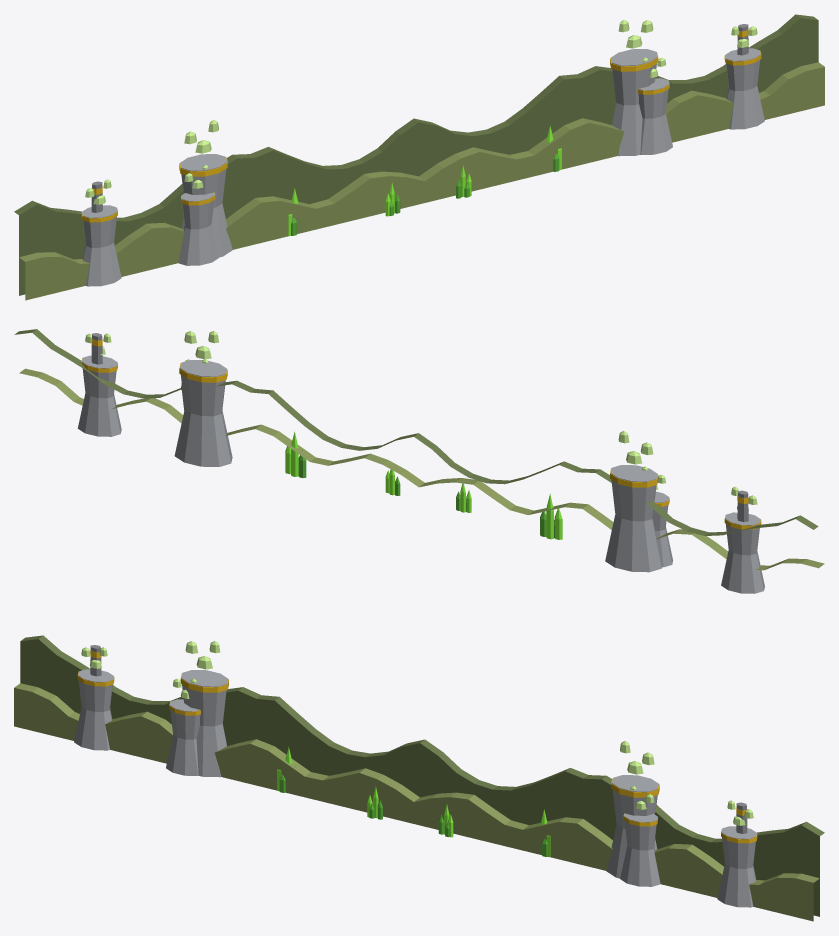
Rendered from backdrop_toxic.glb.
The picture shows the model from 3 angles, top to bottom: view 1: azimuth 30°, elevation 25°; view 2: azimuth 150°, elevation 25°; view 3: azimuth 330°, elevation 25°; orthographic projection.
Visible parts, largest first — view 1: backdrop_toxic; view 2: backdrop_toxic; view 3: backdrop_toxic.
Part boxes in pixels (x1,y1,x2,y2): backdrop_toxic: [14, 14, 824, 300]; backdrop_toxic: [14, 329, 824, 593]; backdrop_toxic: [14, 635, 824, 921].
Size of the model in its own units: 260 by 40 by 14.
1 material, 1 textured.
